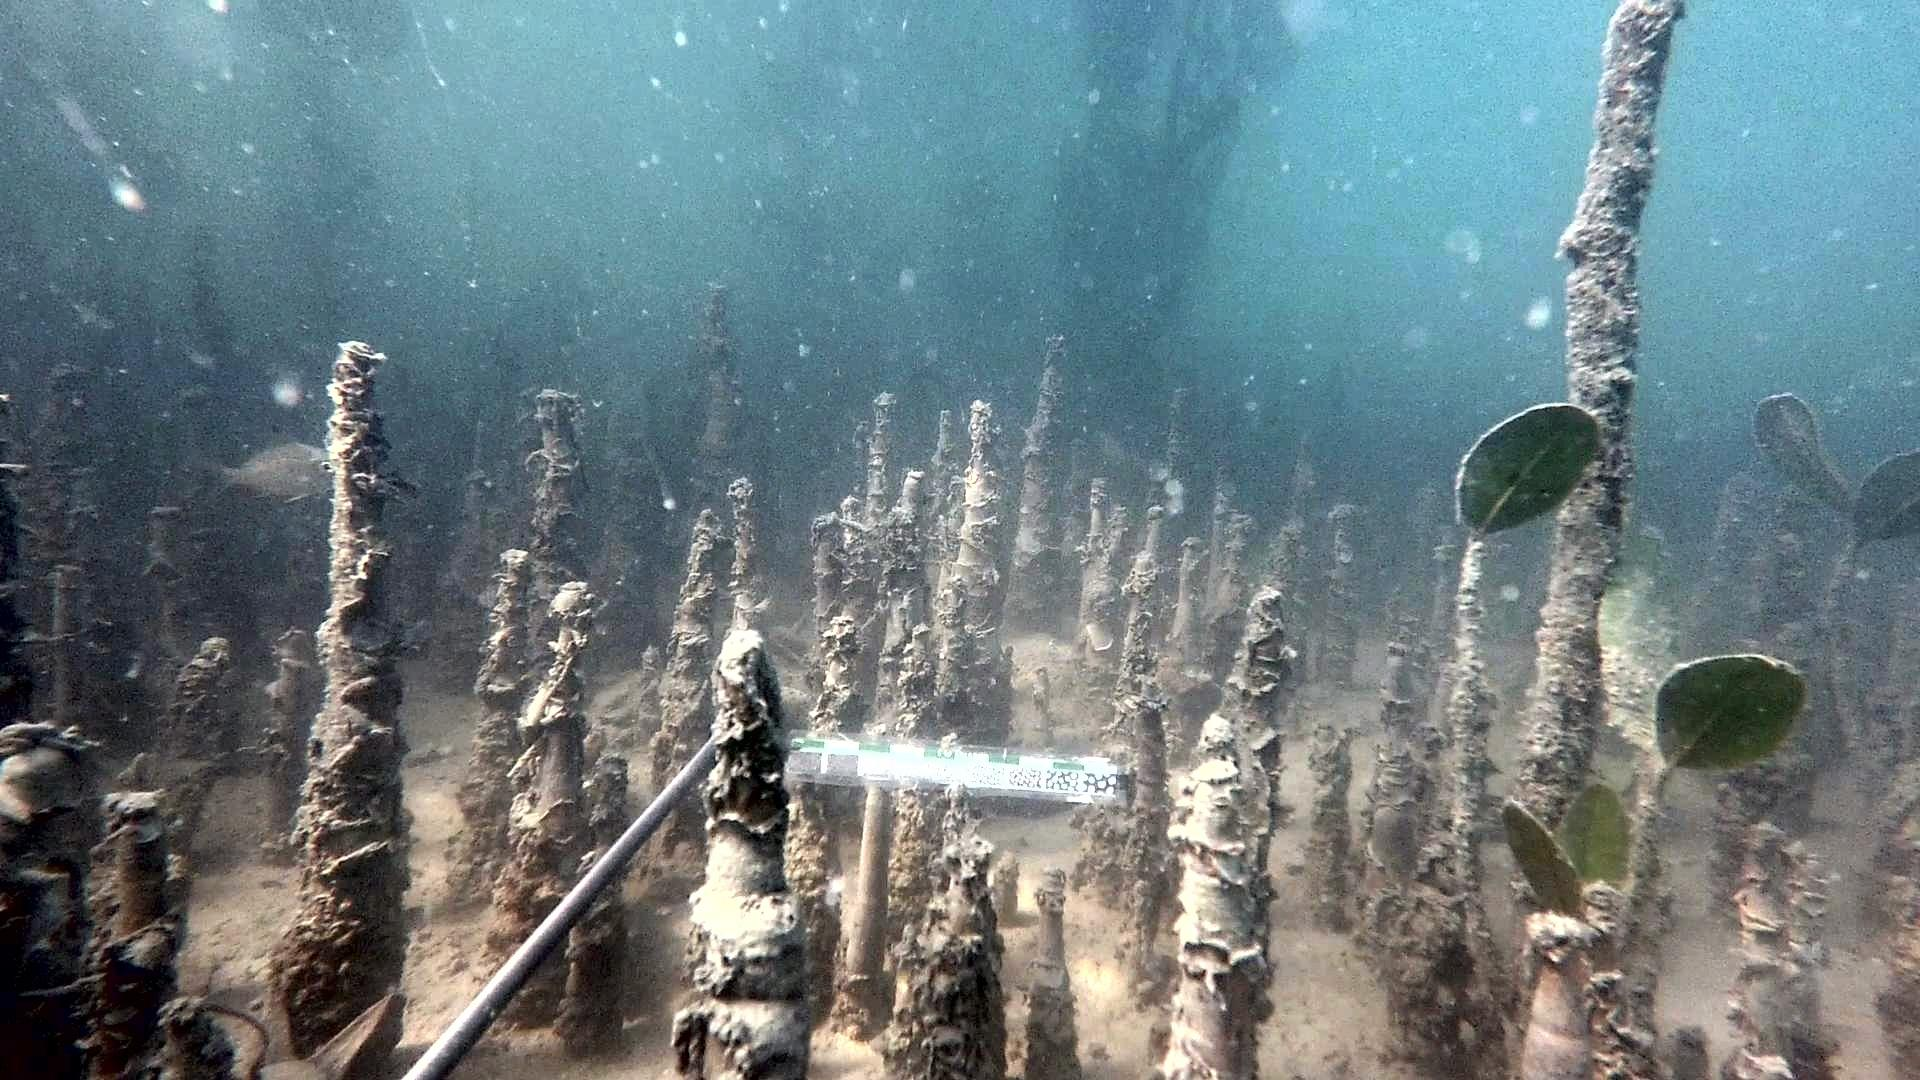gerres: (203, 422, 331, 508)
